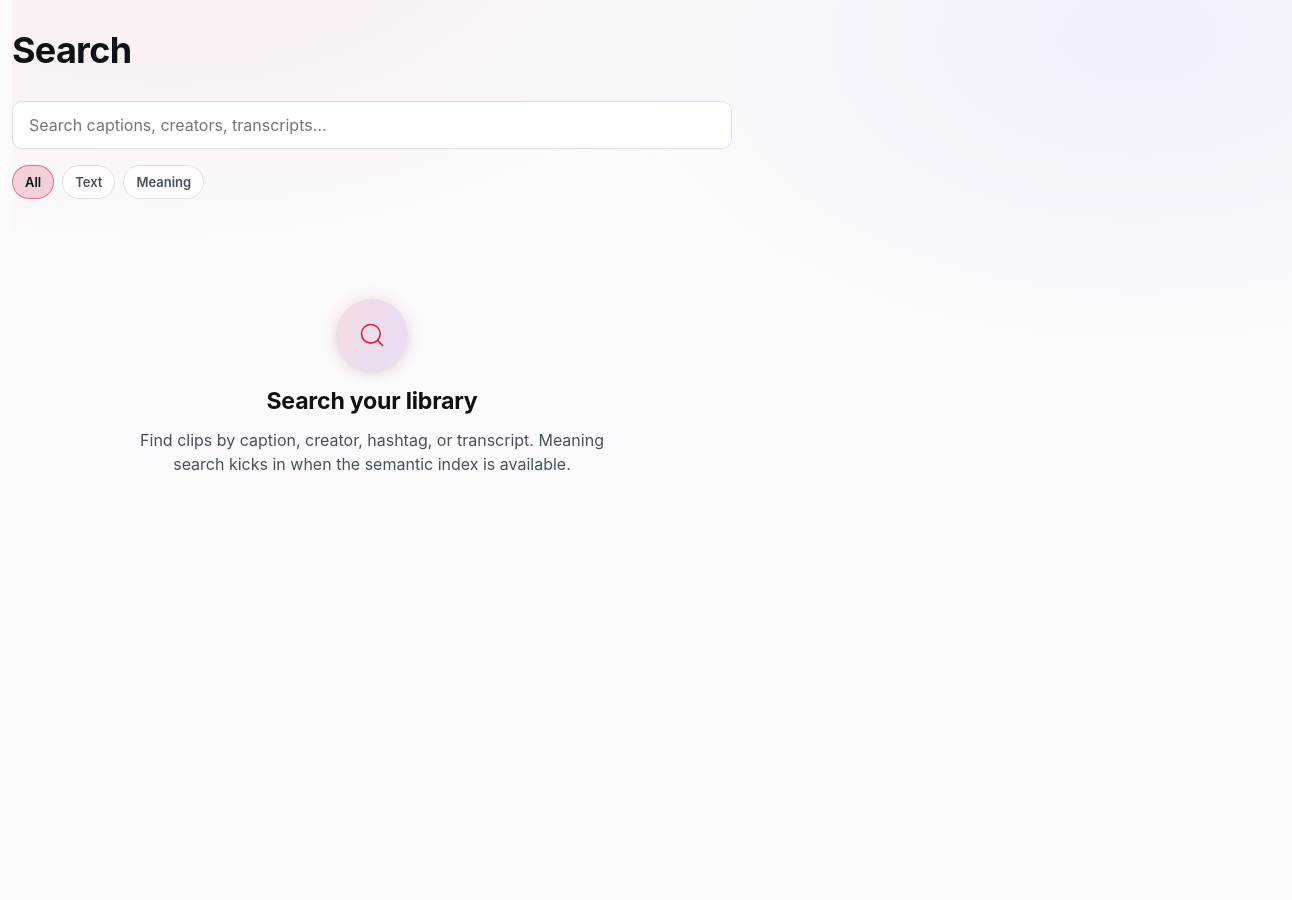
Test: debounces input and shows results
The image size is (1292, 900).
Step 1. Type "pasta" into the search field named "Search query" → (372, 125), box top-left (12, 101), bottom-right (732, 149)
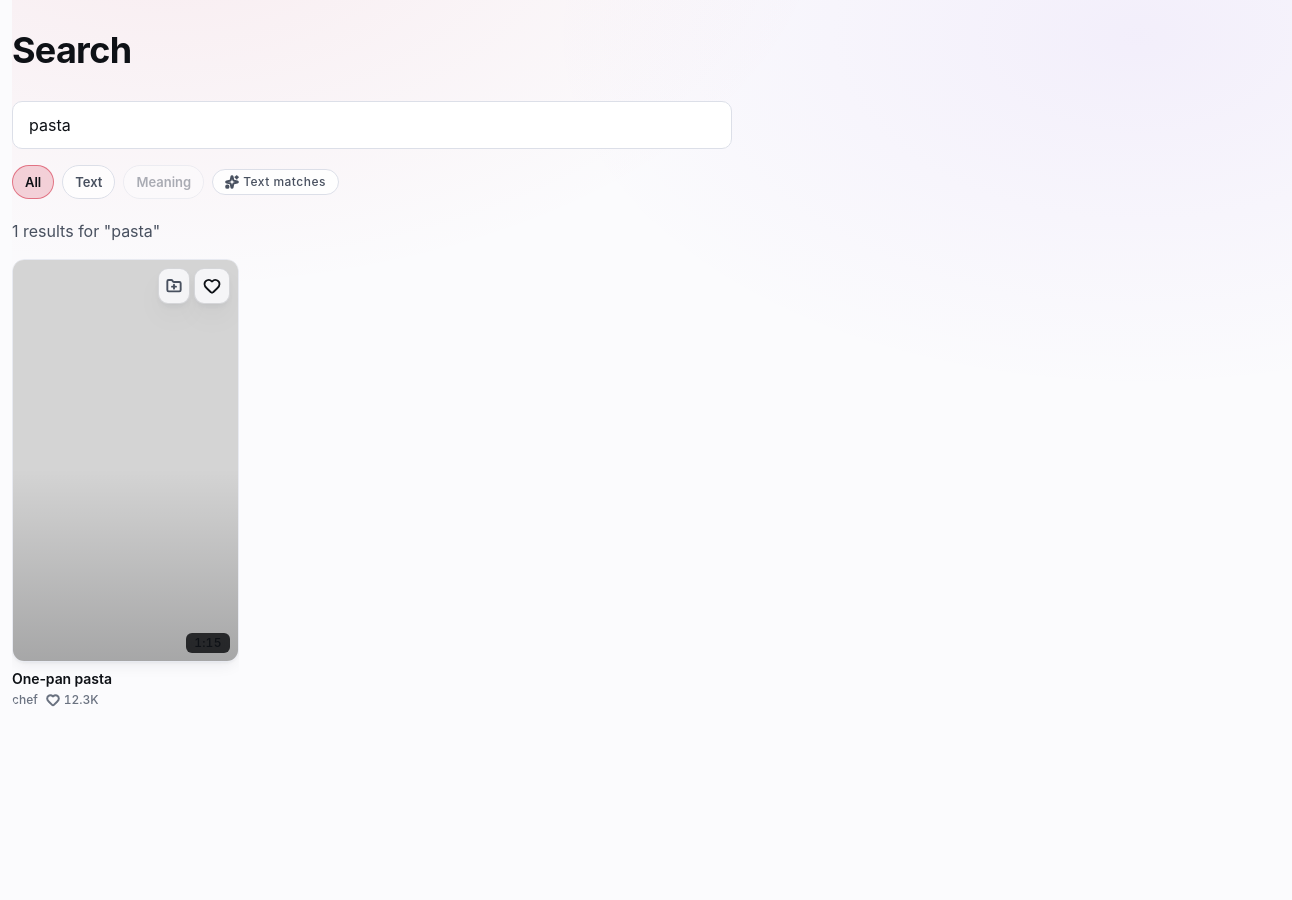
Expected: the text "1 results for \"pasta\"" is shown, top-left (12, 221), bottom-right (160, 241)
